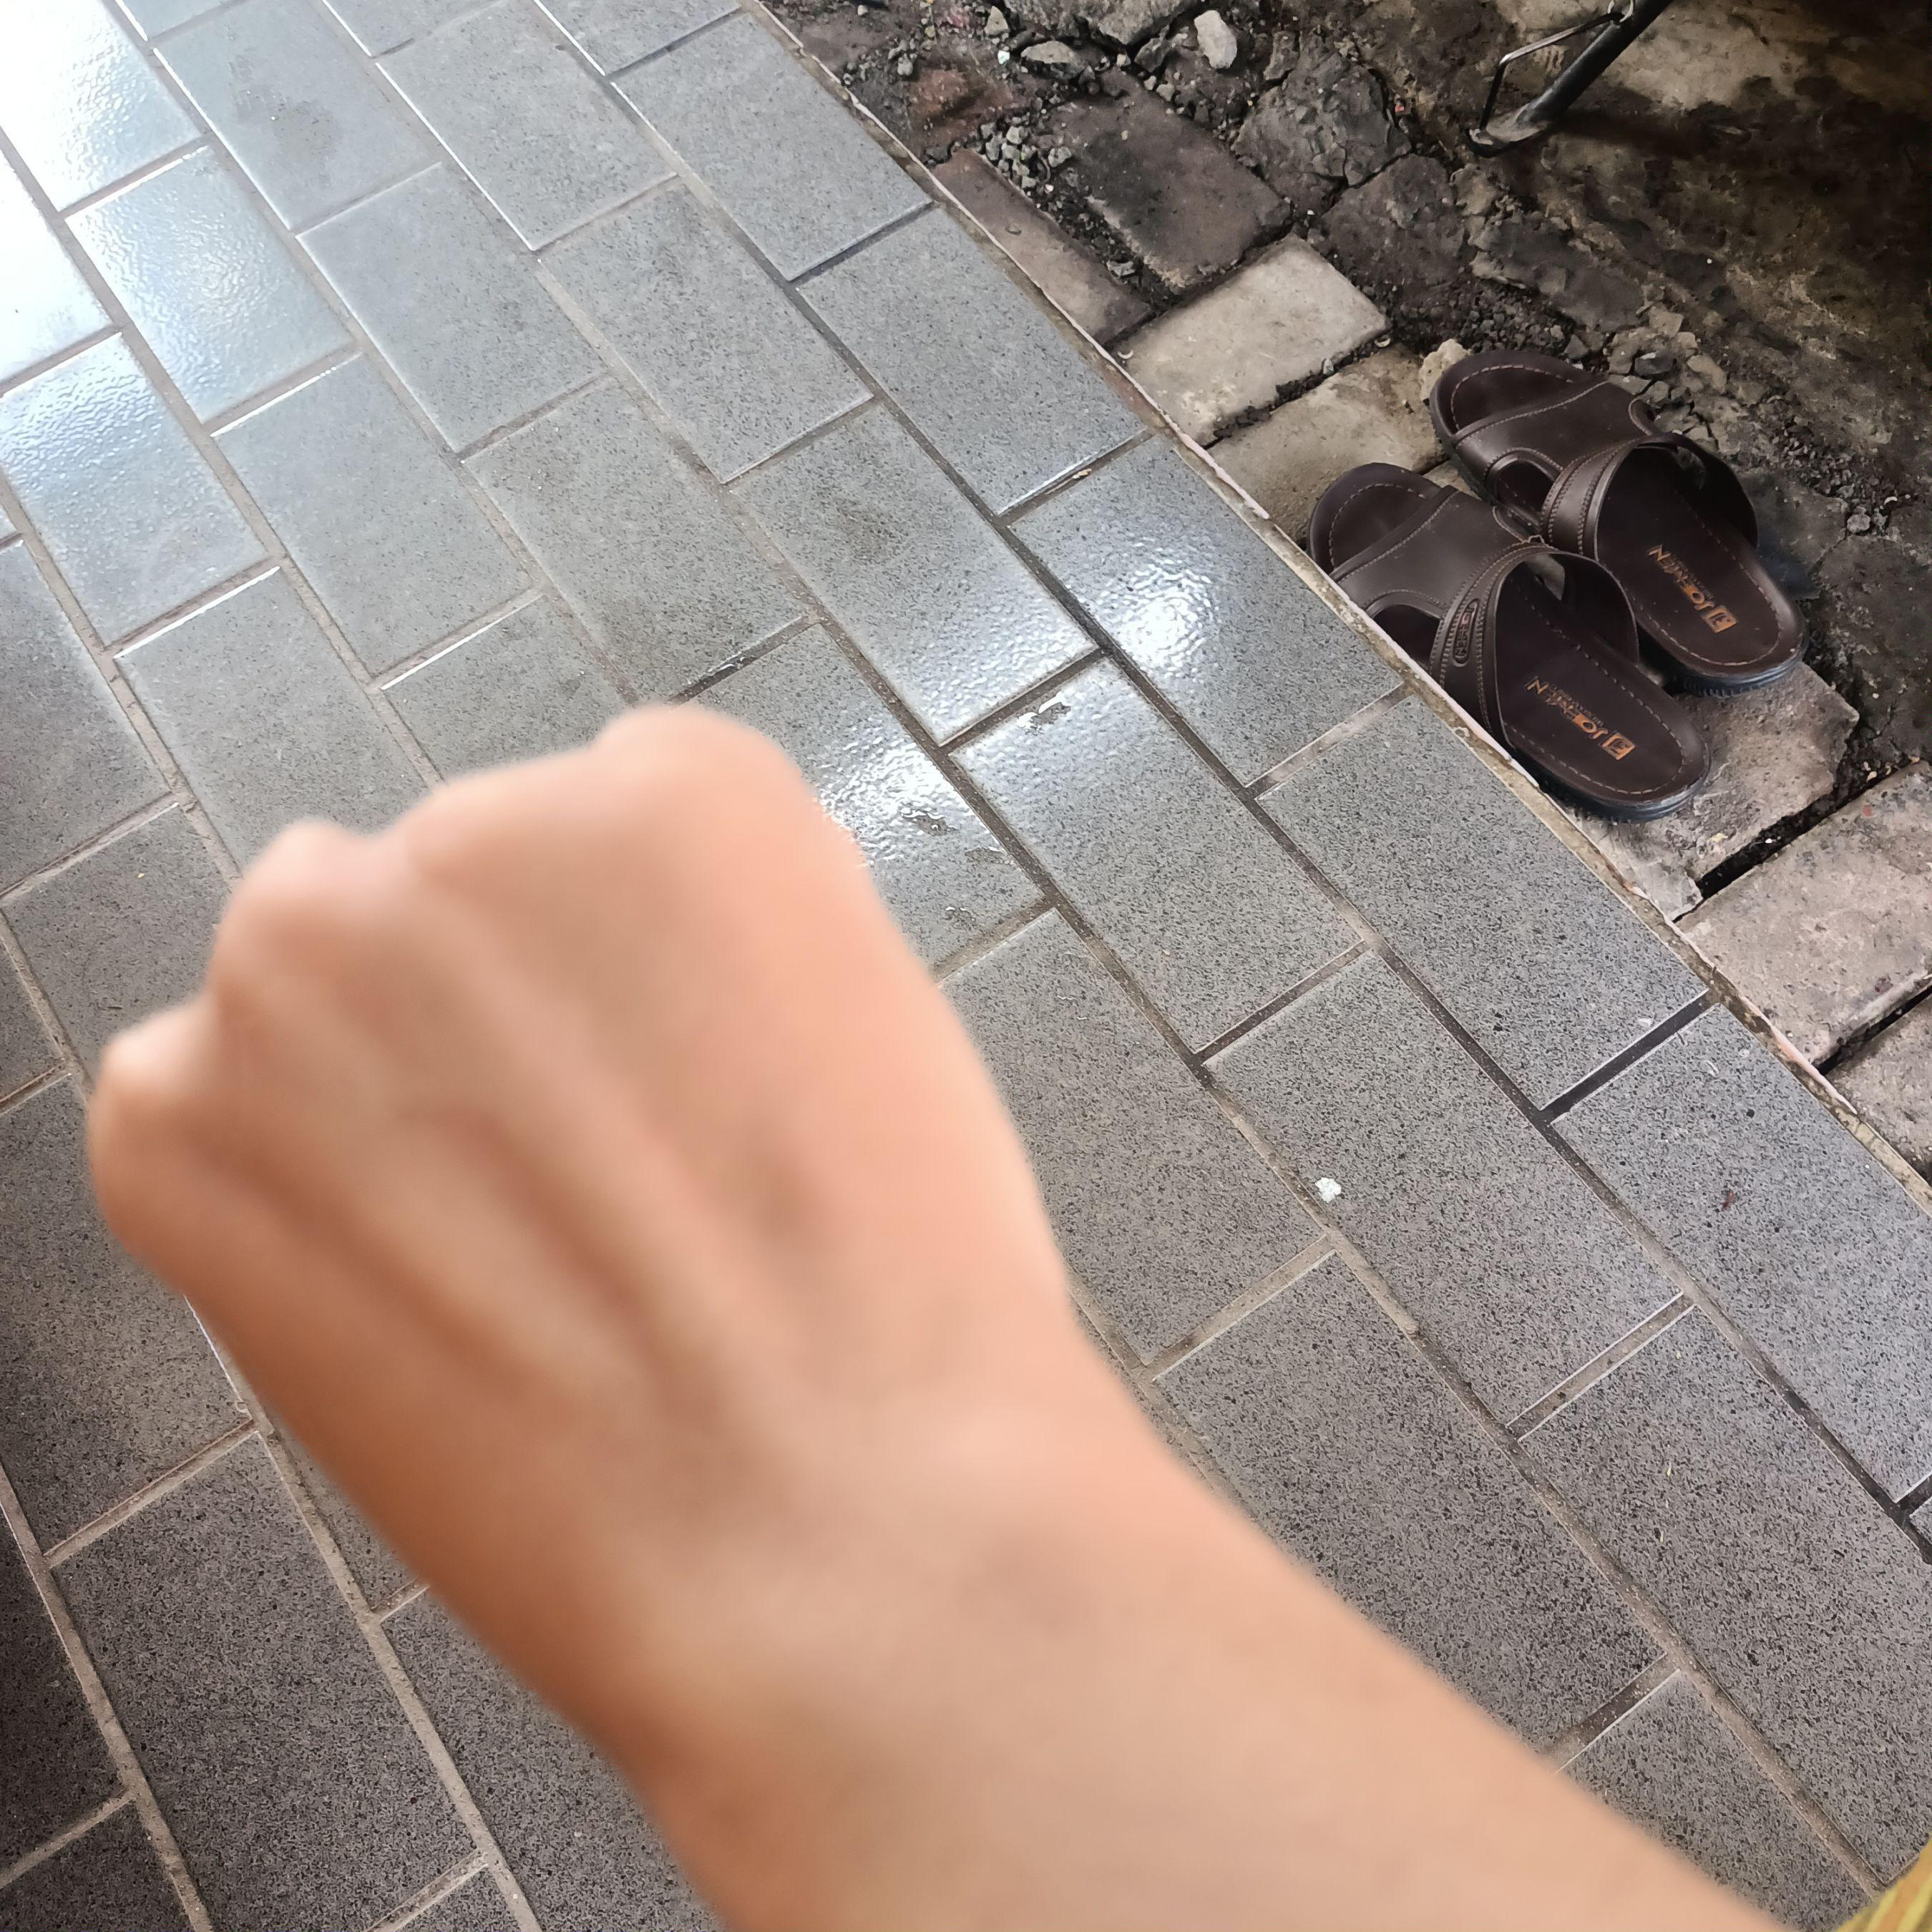rock: (48, 660, 1115, 1821)
